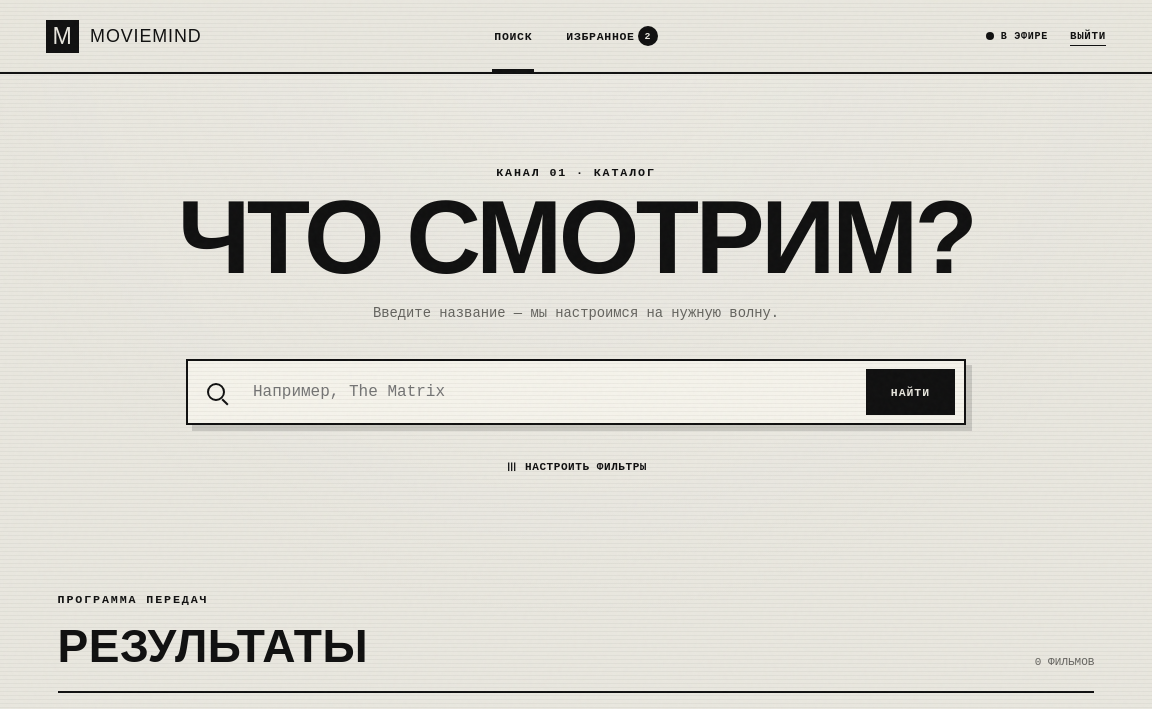
Scenario: MovieMind React application › combines selected genres with AND semantics
This screenshot has width=1152, height=709.
Check: the heading "Что смотрим?" is shown, box 178,192 -> 974,283
Type "movie" into the search field named "Название фильма". click: [554, 392]
box: 243,361 -> 866,423
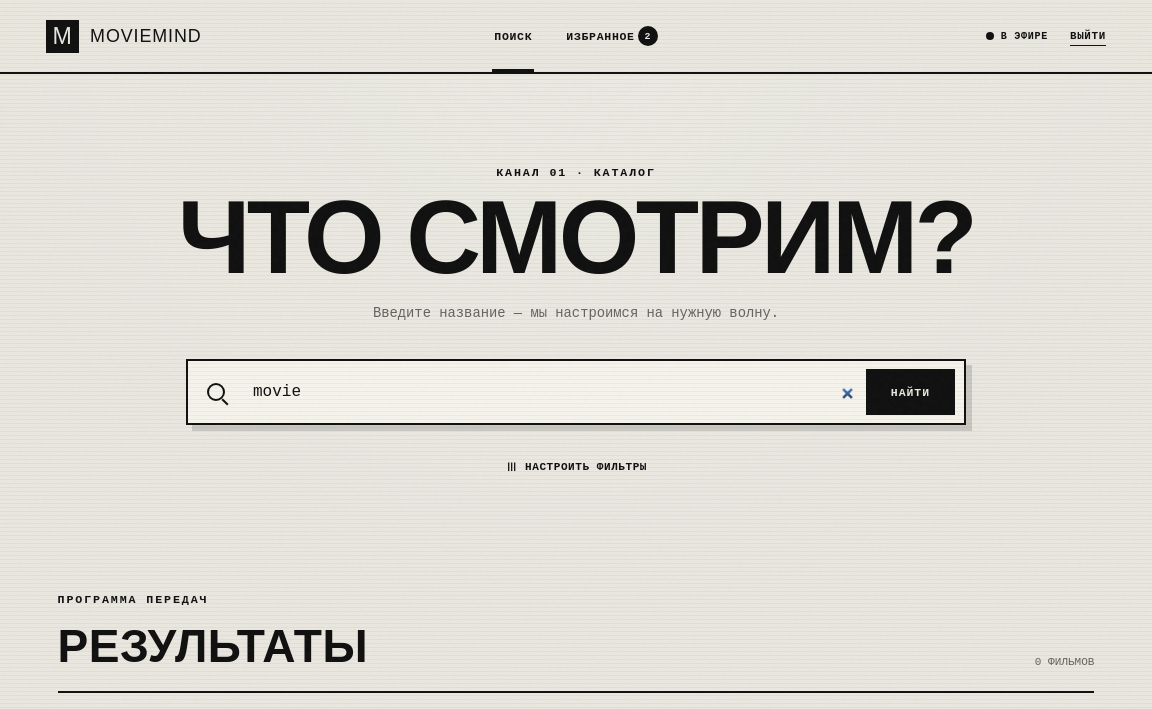
Click the button "Найти". click: [910, 392]
box: 866,369 -> 955,415
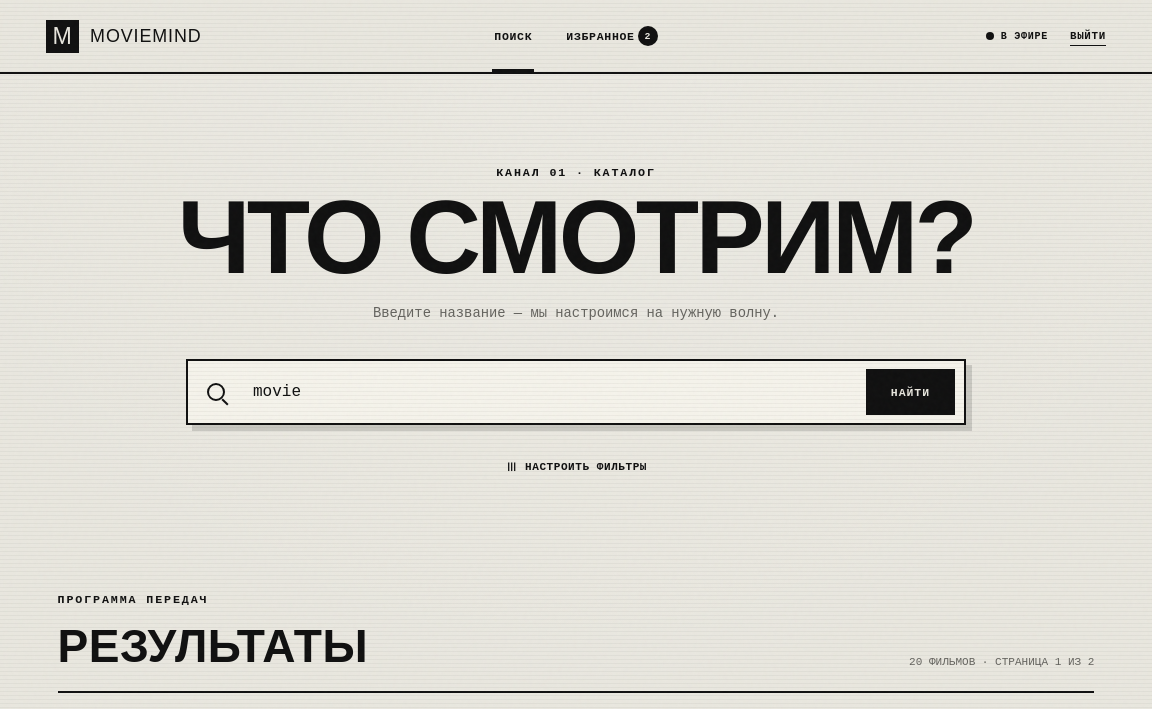
Check: the text "20 фильмов · страница 1 из 2" is shown, box 909,656 -> 1094,668
Click the button "≡ Настроить фильтры". click: [576, 467]
box: 491,445 -> 661,489
(page scrolled)
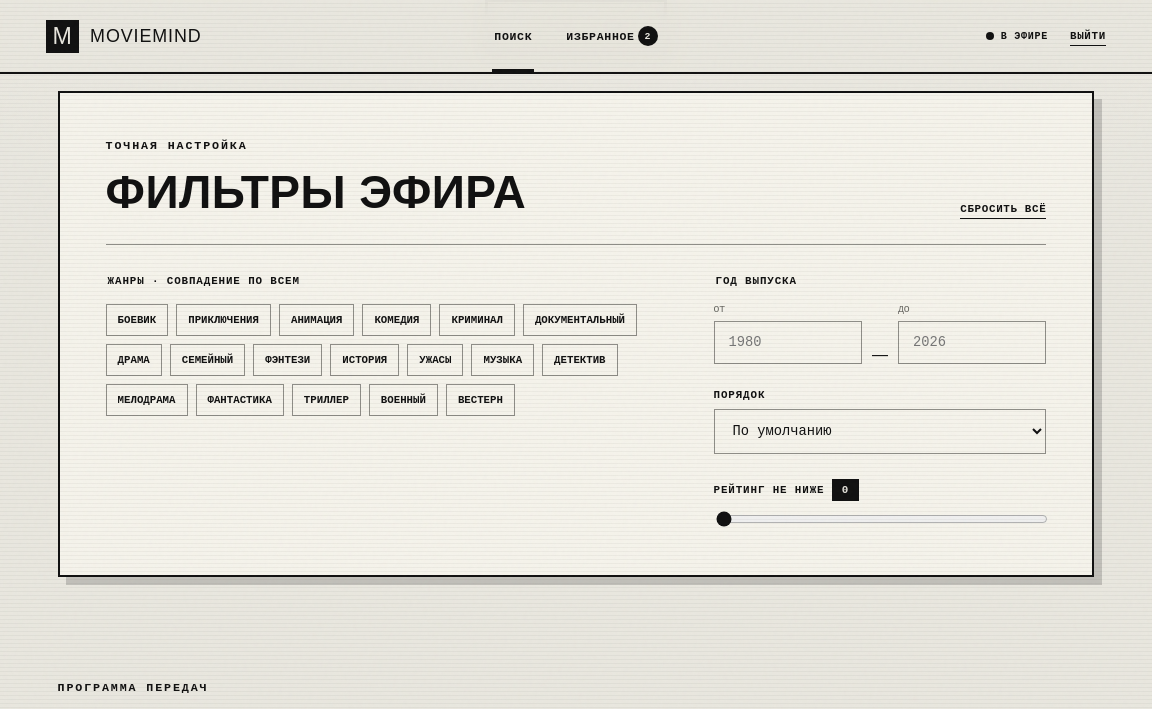
Click the checkbox labelled "Драма". click: [134, 360]
box: 106,344 -> 162,376
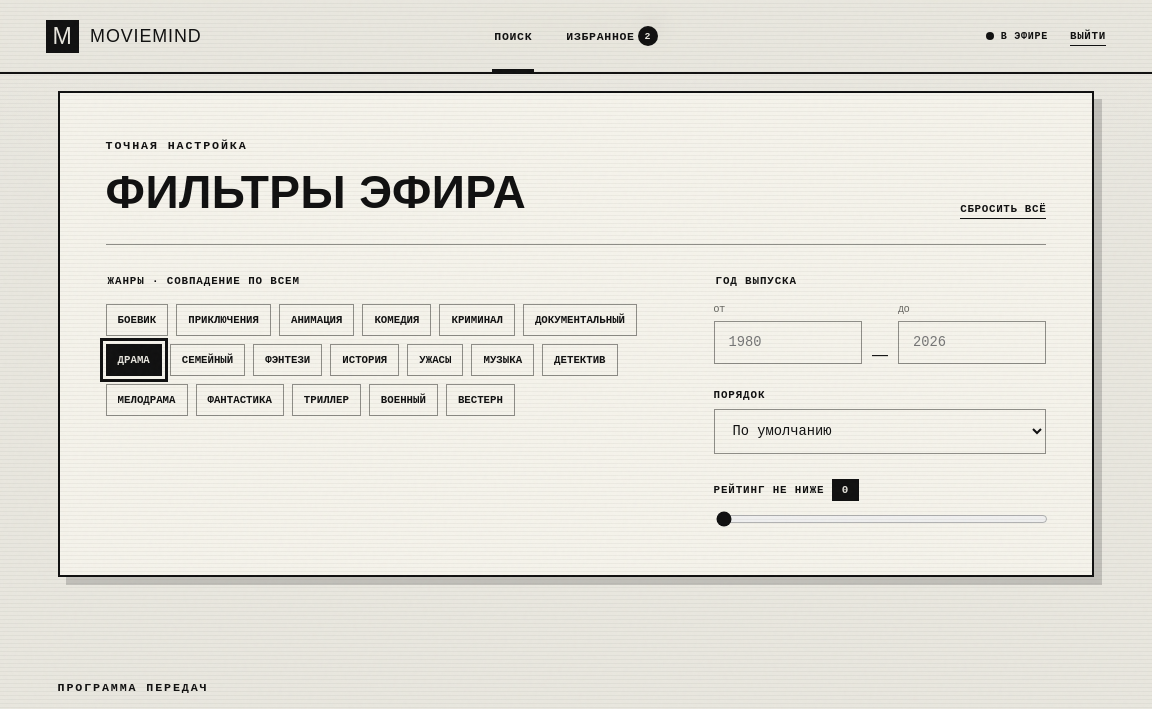
Click the checkbox labelled "Фантастика". click: [240, 400]
box: 196,384 -> 284,416
(page scrolled)
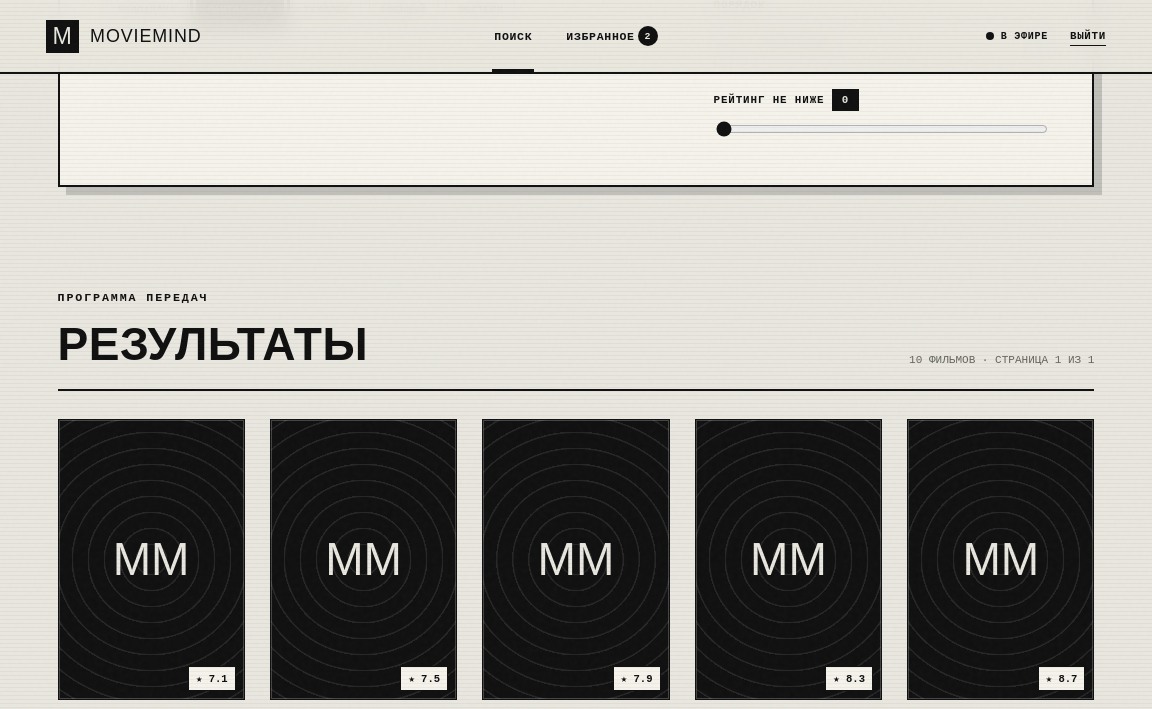
Check: the text "10 фильмов · страница 1 из 1" is shown, box 909,354 -> 1094,366
